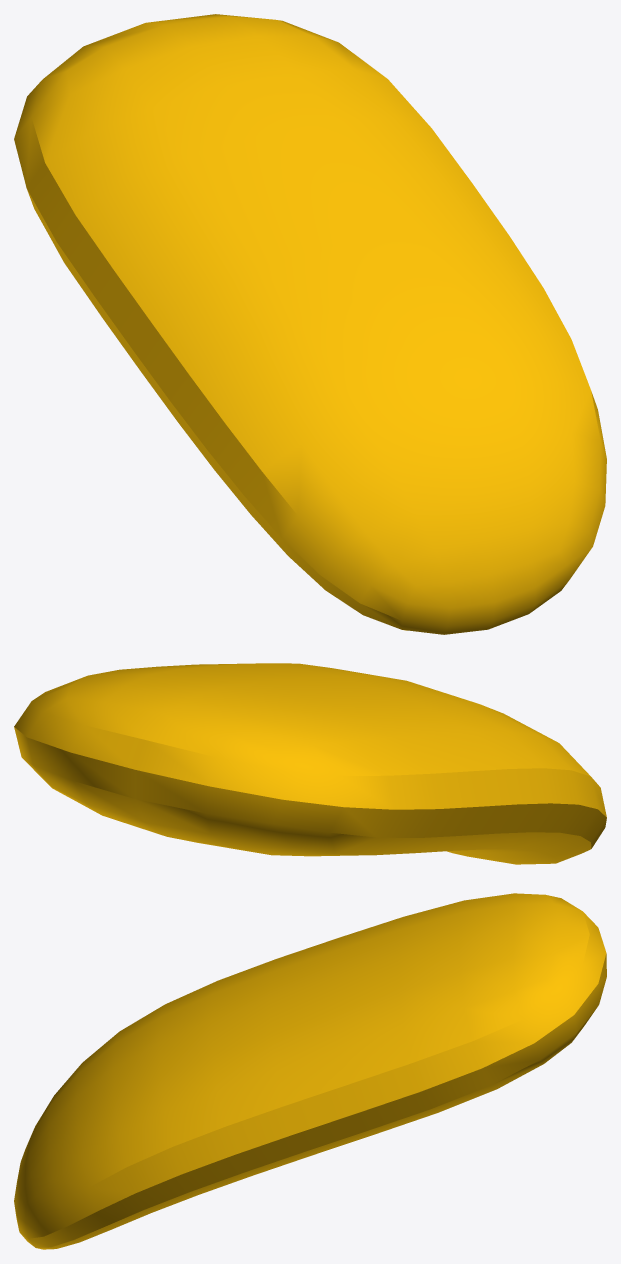
The model's file is Llengua.fbx.
3 views of the same model, one above another, from view 1: azimuth 30°, elevation 25°; view 2: azimuth 150°, elevation 25°; view 3: azimuth 270°, elevation 25° (orthographic). The views are drawn at different scales.
Visible parts, largest first — view 1: Cube.010; view 2: Cube.010; view 3: Cube.010.
Boxes of the visible parts, left/top/right/bottom form: Cube.010: left=14, top=14, right=606, bottom=634; Cube.010: left=14, top=663, right=606, bottom=864; Cube.010: left=14, top=893, right=606, bottom=1249.
Size of the model in its own units: 0.88 by 0.8114 by 1.43.
